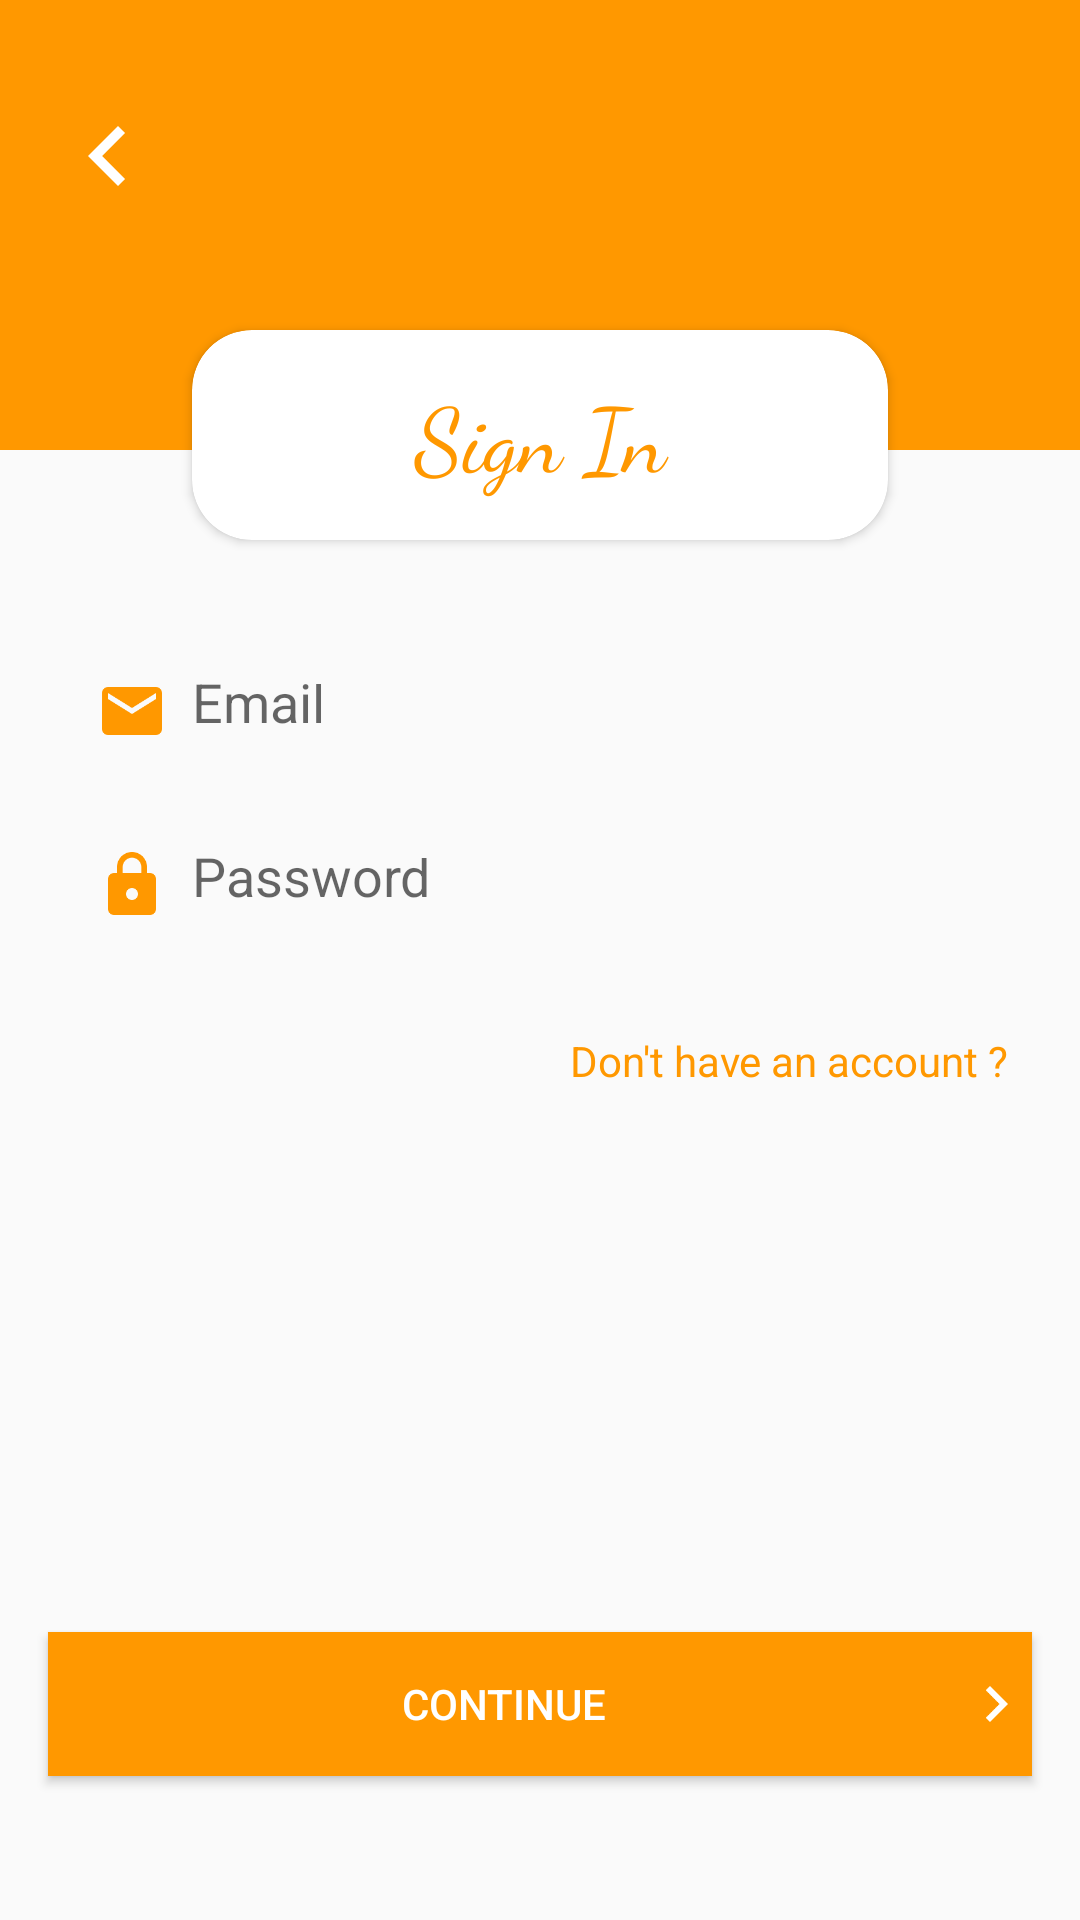

Where to tap for icons on this 1080×1920 app screen, as (x=x, y=y):
back: (x=106, y=156)
